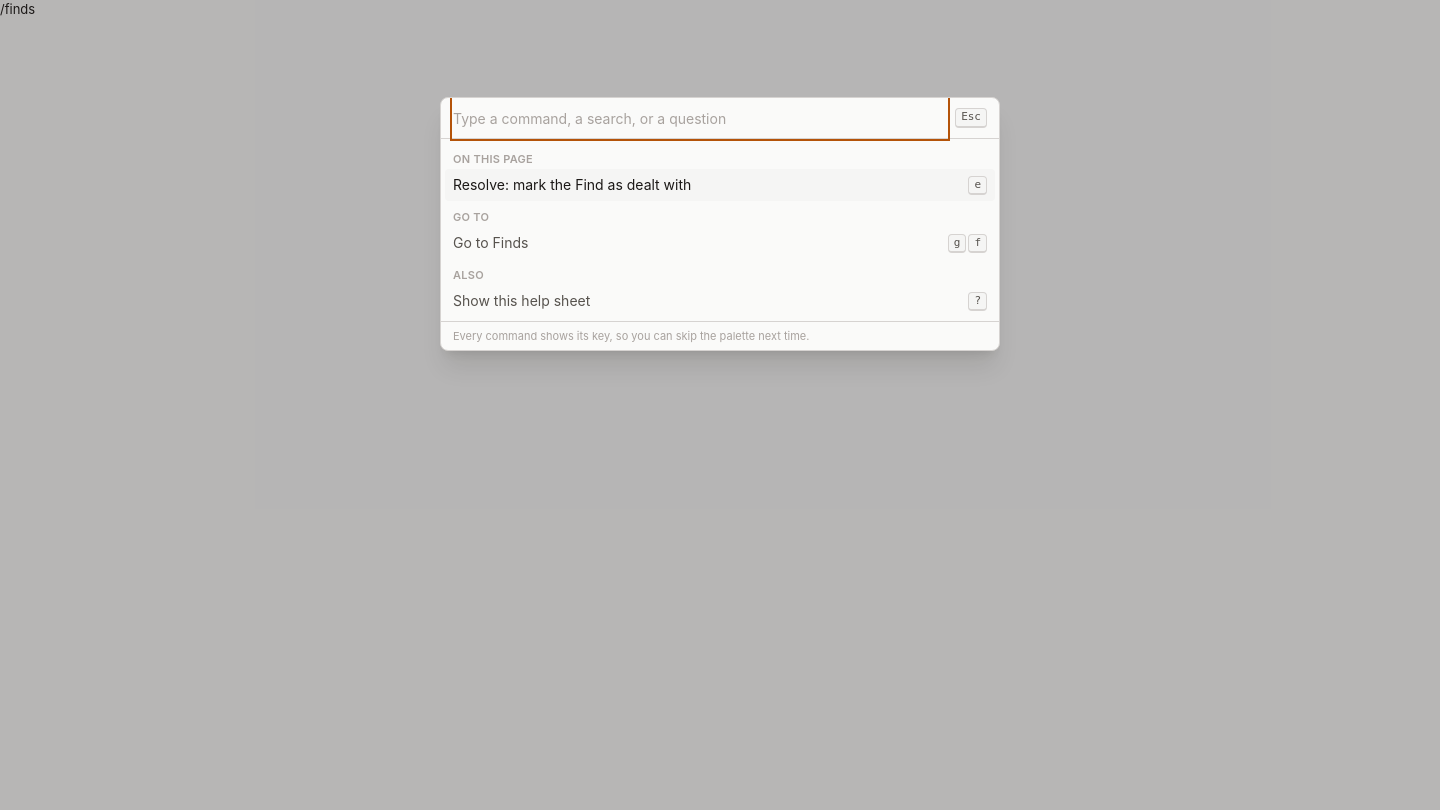
Test: the command palette › typing filters on every word of the label, and the synthetic rows follow the text
Type "go finds" into the dropdown labelled "command" at {"x": 700, "y": 118}, box [453,98,947,138]
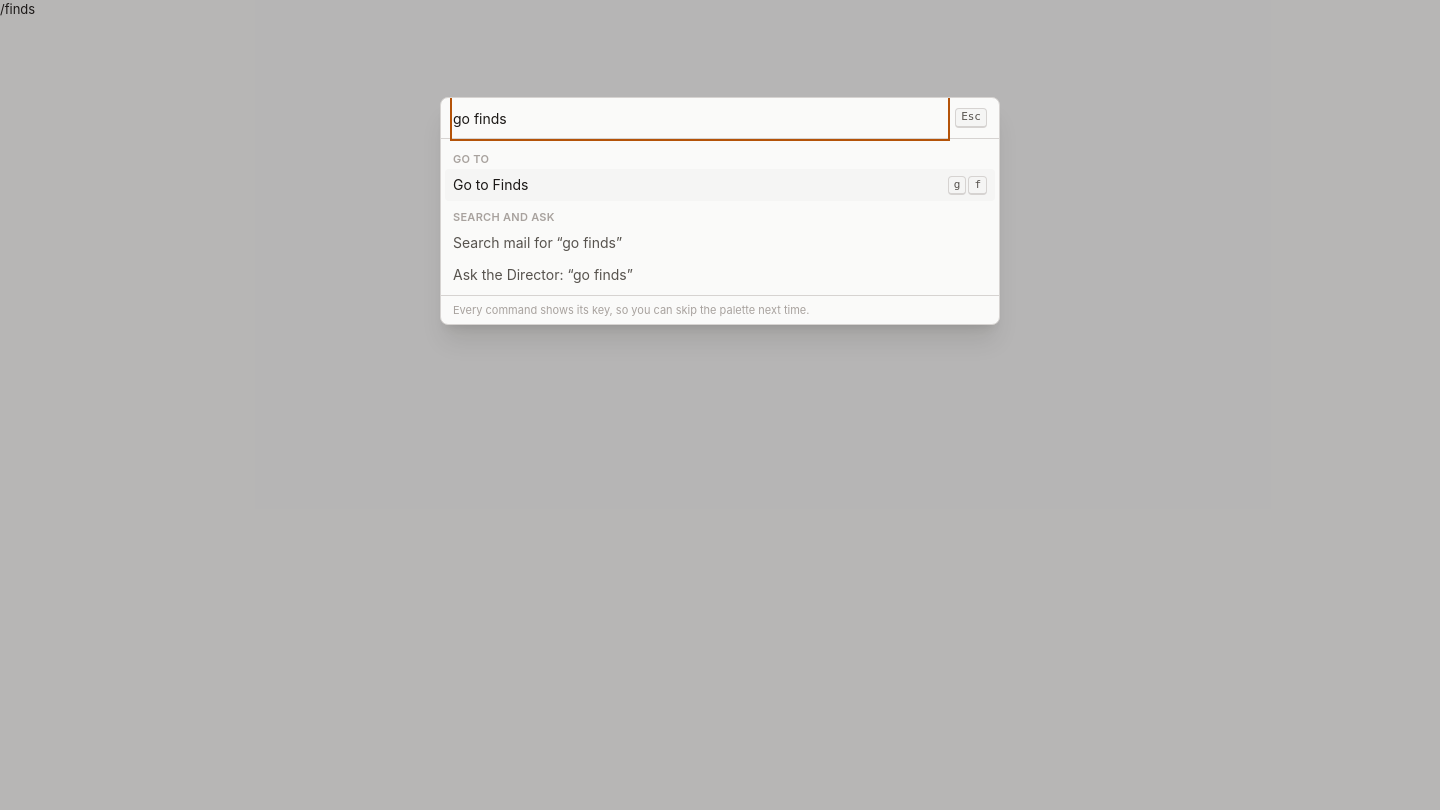
Expected: the option "Resolve" is gone
Expected: the option "Search mail for “go finds”" is shown, [453,234,622,251]
Expected: the option "Ask the Director: “go finds”" is shown, [453,266,633,283]
